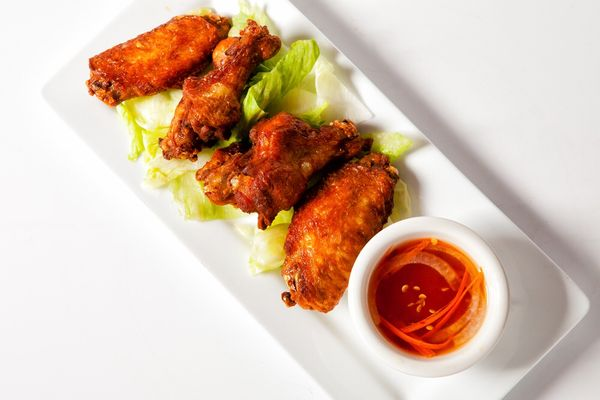sushi: (348, 213, 513, 383)
